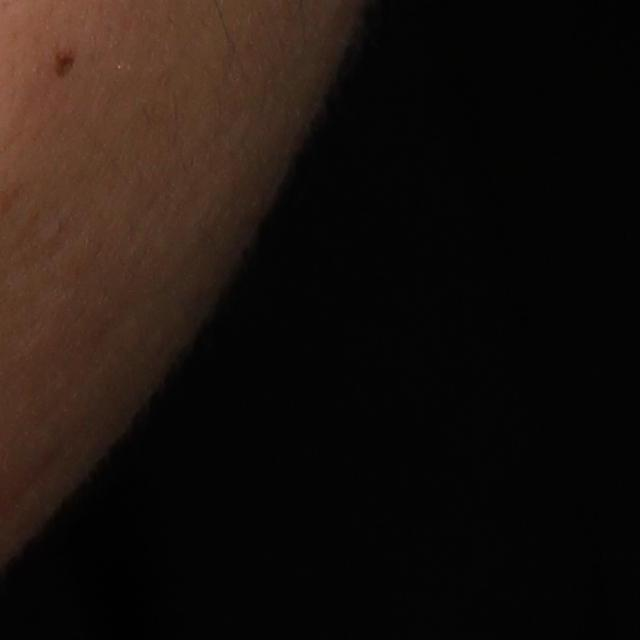nevus: (52, 46, 79, 80)
